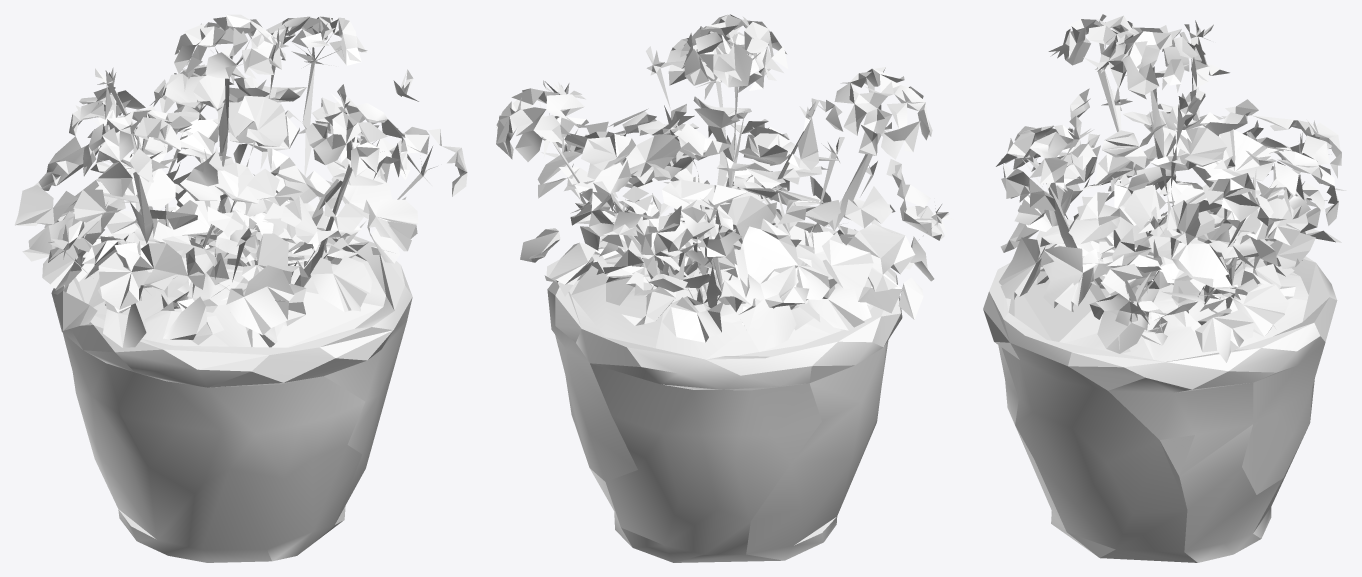
The model's file is flower_pot.glb.
3 views of the same model, side by side, from view 1: azimuth 30°, elevation 25°; view 2: azimuth 150°, elevation 25°; view 3: azimuth 270°, elevation 25° (orthographic). The views are drawn at different scales.
Visible parts, largest first — view 1: Mesh_0; view 2: Mesh_0; view 3: Mesh_0.
Boxes of the visible parts, bbox=[...] form: Mesh_0: bbox=[14, 14, 467, 562]; Mesh_0: bbox=[496, 14, 953, 562]; Mesh_0: bbox=[983, 14, 1346, 562].
Size of the model in its own units: 0.7944 by 0.9 by 0.613.
1 material, 1 textured.
